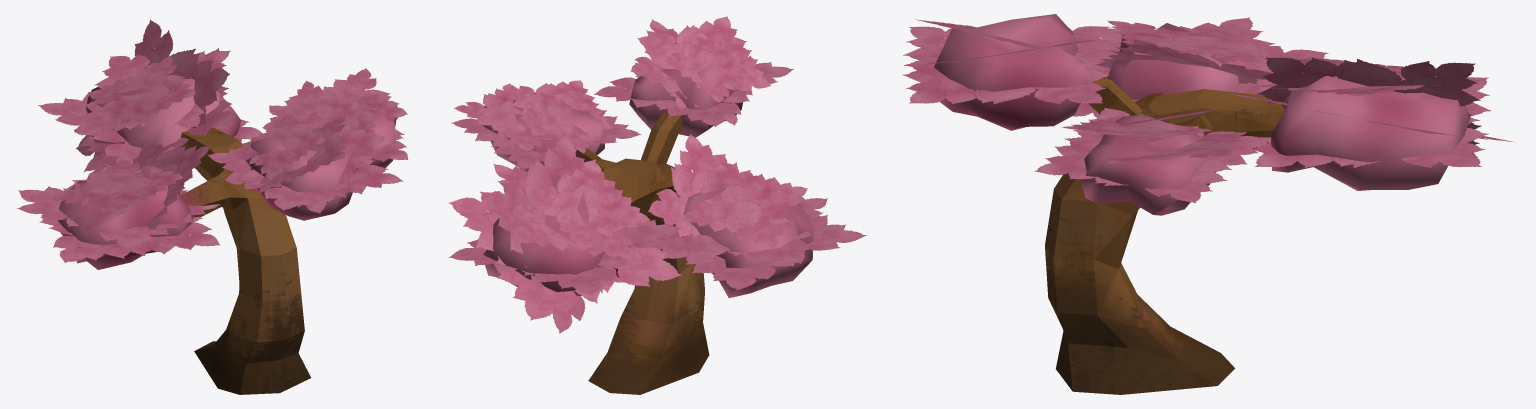
Rendered from Bonsai.fbx.
3 renders of one model, left to right at view 1: azimuth 30°, elevation 25°; view 2: azimuth 150°, elevation 25°; view 3: azimuth 270°, elevation 25°, orthographic. The views are drawn at different scales.
Visible parts, largest first — view 1: Bonsai, Plane005, Plane008, Plane006, Plane004, Plane010, Plane003, Plane014, Plane012, Plane007, Plane009, Plane001 (+6 smaller); view 2: Bonsai, Plane008, Plane002, Plane005, Plane004, Plane006, Plane009, Plane001, Plane013, Plane003, Plane014, Plane010 (+6 smaller); view 3: Bonsai, Plane010, Plane004, Plane011, Plane001, Plane008, Plane009, Plane007, Plane015, Plane016, Plane006, Plane003.
Part boxes in pixels (<box>): Bonsai: <box>58,79,396,394</box>; Plane005: <box>88,56,196,131</box>; Plane008: <box>51,159,183,215</box>; Plane006: <box>18,184,220,262</box>; Plane004: <box>76,19,229,157</box>; Plane010: <box>207,139,403,210</box>; Plane003: <box>74,50,230,132</box>; Plane014: <box>232,112,325,179</box>; Plane012: <box>224,104,386,213</box>; Plane007: <box>17,165,221,249</box>; Plane009: <box>131,143,210,229</box>; Plane001: <box>38,91,262,164</box>; Bonsai: <box>483,42,813,394</box>; Plane008: <box>681,164,807,247</box>; Plane002: <box>449,159,681,320</box>; Plane005: <box>524,162,650,250</box>; Plane004: <box>484,134,642,333</box>; Plane006: <box>650,215,866,290</box>; Plane009: <box>648,134,748,254</box>; Plane001: <box>449,219,681,294</box>; Plane013: <box>637,16,771,108</box>; Plane003: <box>493,163,636,261</box>; Plane014: <box>662,32,757,102</box>; Plane010: <box>594,55,793,126</box>; Bonsai: <box>933,14,1470,394</box>; Plane010: <box>902,26,1111,104</box>; Plane004: <box>1257,57,1481,155</box>; Plane011: <box>1034,107,1271,202</box>; Plane001: <box>1254,76,1490,167</box>; Plane008: <box>1107,20,1263,63</box>; Plane009: <box>1096,39,1271,84</box>; Plane007: <box>1088,17,1274,101</box>; Plane015: <box>1107,132,1246,163</box>; Plane016: <box>1061,115,1212,142</box>; Plane006: <box>1073,28,1328,118</box>; Plane003: <box>1253,77,1483,95</box>.
Size of the model in its own units: 55.98 by 39.44 by 61.2.
2 materials, 2 textured.
